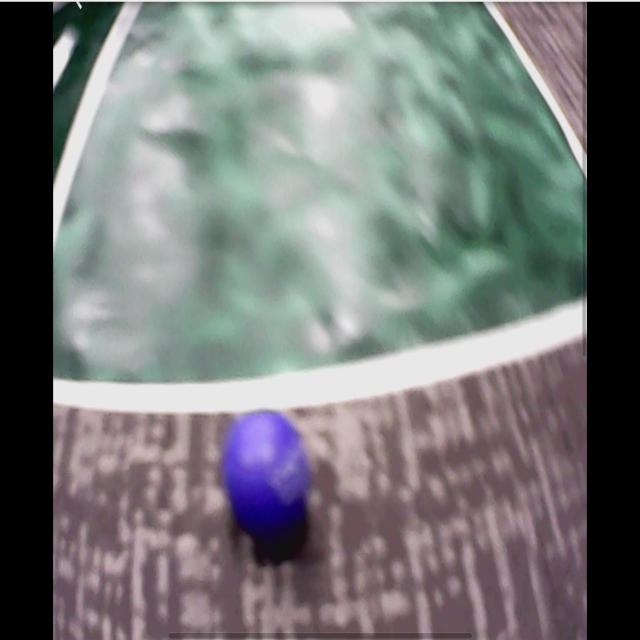ball: (225, 409, 310, 545)
